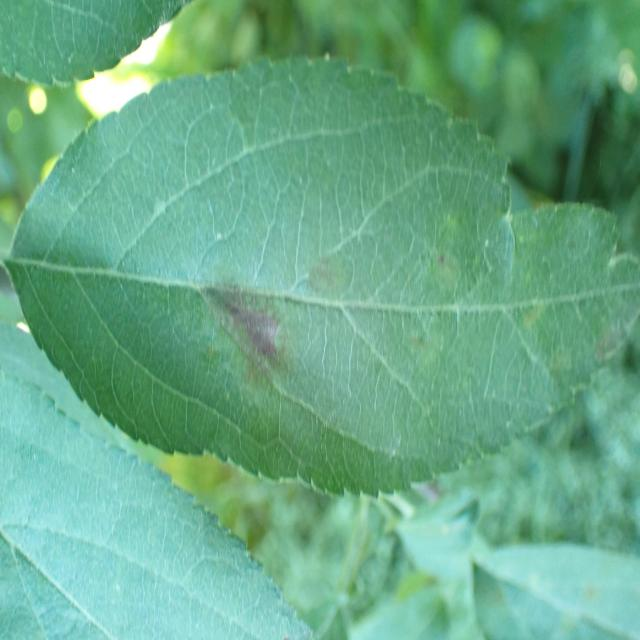scab: (78, 162, 604, 458)
